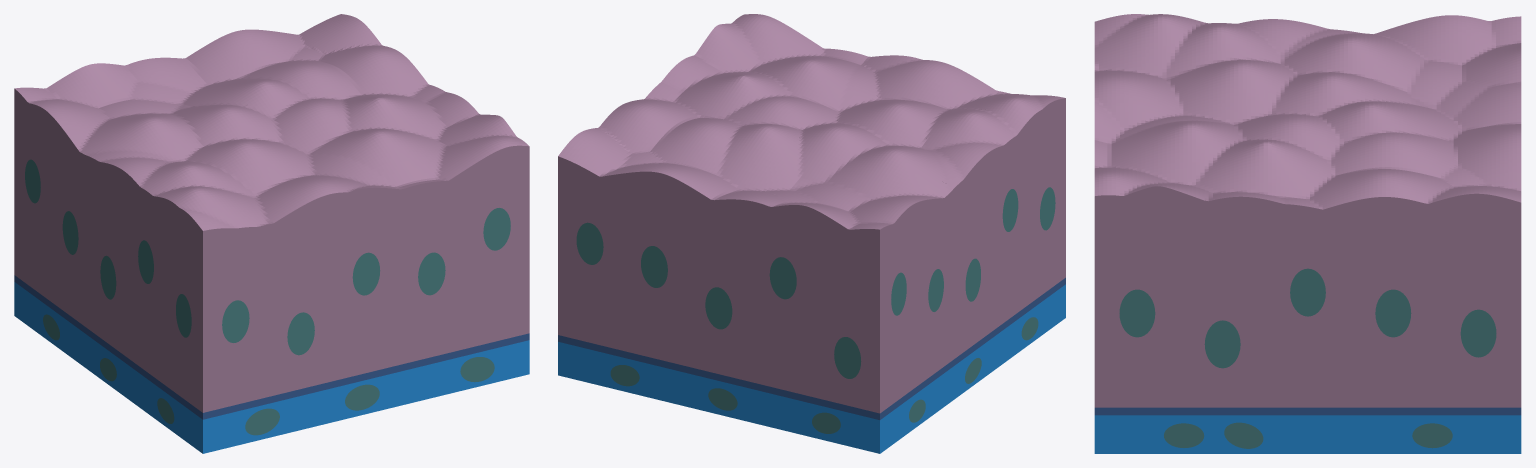
File: Columnar.gltf
The picture shows the model from 3 angles, left to right: view 1: azimuth 30°, elevation 25°; view 2: azimuth 150°, elevation 25°; view 3: azimuth 270°, elevation 25°; orthographic projection. The views are drawn at different scales.
Parts seen in each view (by area): view 1: Cube.025; view 2: Cube.025; view 3: Cube.025.
Boxes of the visible parts, left/top/right/bottom form: Cube.025: left=14, top=14, right=529, bottom=453; Cube.025: left=558, top=14, right=1065, bottom=453; Cube.025: left=1094, top=14, right=1521, bottom=453.
Size of the model in its own units: 10.02 by 6.98 by 10.02.
